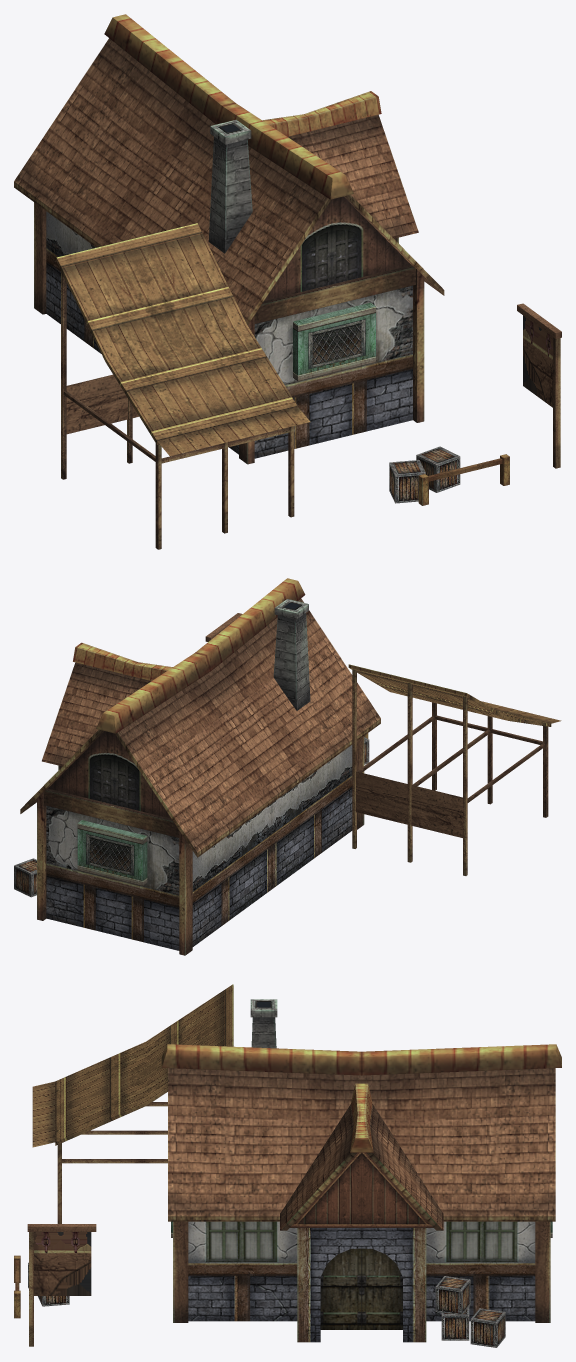
The model's file is MEB_building_09.fbx.
The picture shows the model from 3 angles, top to bottom: view 1: azimuth 30°, elevation 25°; view 2: azimuth 150°, elevation 25°; view 3: azimuth 270°, elevation 25°; orthographic projection. The views are drawn at different scales.
Visible parts, largest first — view 1: MEB_building_09; view 2: MEB_building_09; view 3: MEB_building_09.
Part boxes in pixels (x1,y1,x2,y2): MEB_building_09: (14,14,561,549); MEB_building_09: (14,578,561,955); MEB_building_09: (14,984,561,1347).
Size of the model in its own units: 830 by 588 by 1137.
